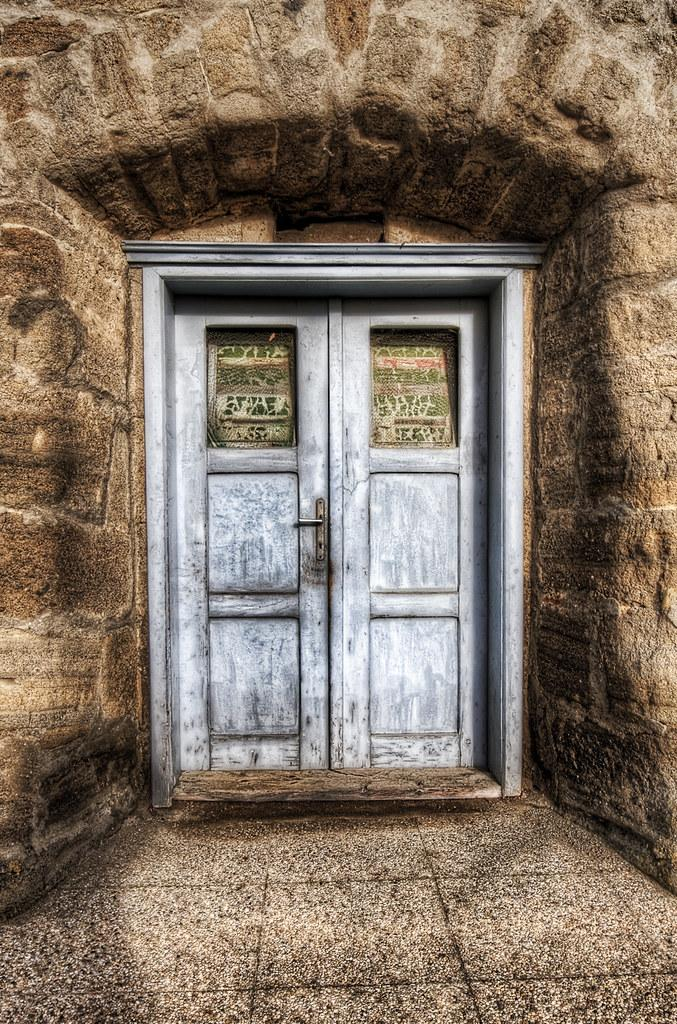door: (171, 290, 492, 777)
